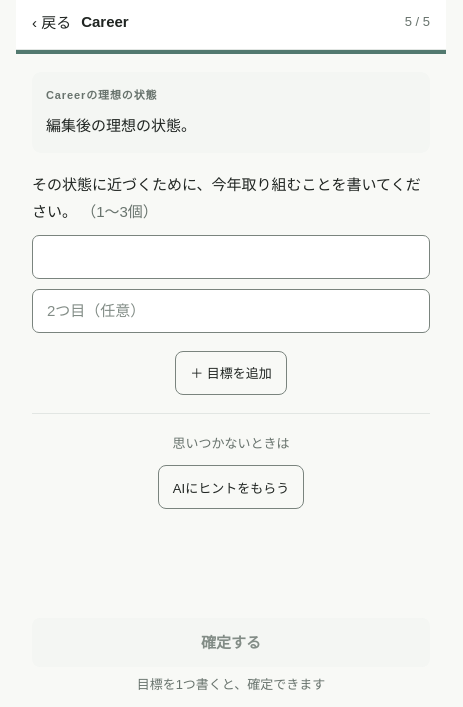
Test: S-56 › ヒント取得に失敗したらエラー文言を表示し、画面遷移しない
Click the button with class "s56__ghost-button" showing "AIにヒントをもらう". click: [231, 487]
box: [158, 465, 304, 509]
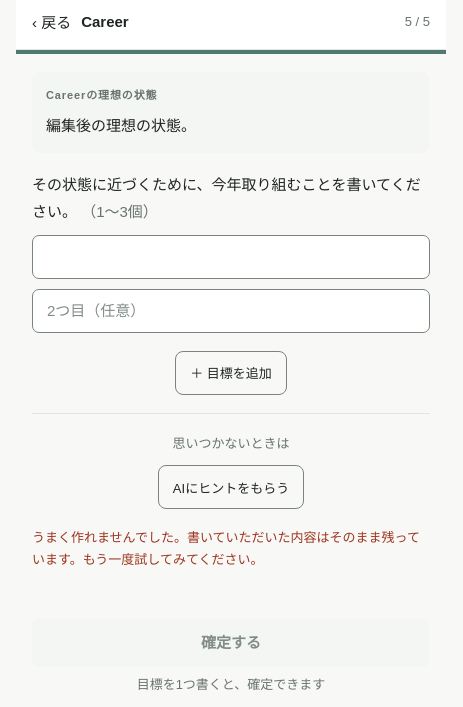
Check: the text "うまく作れませんでした。書いていただいた内容はそのまま残っています。もう一度試してみてください。" is shown, box [32, 527, 430, 571]
